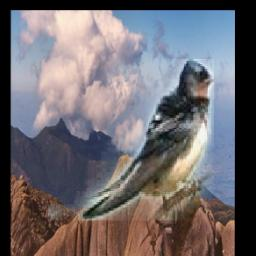Swallow: (49, 60, 215, 221)
